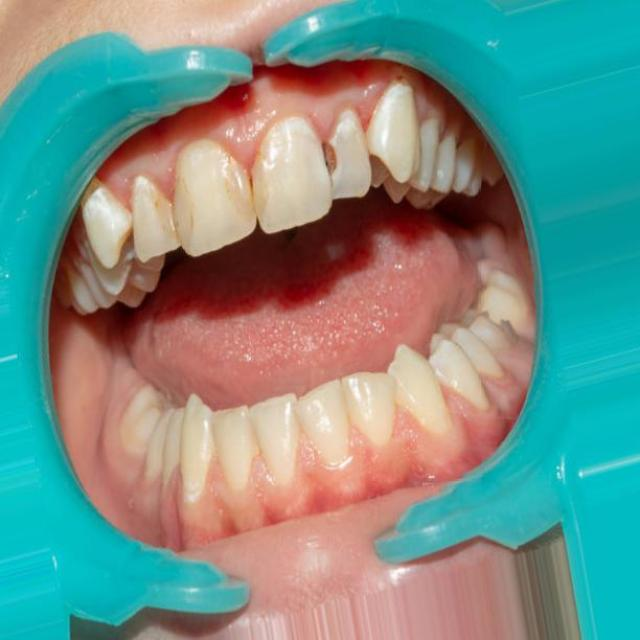caries: (218, 142, 284, 226), (135, 175, 205, 239), (312, 119, 356, 189)
